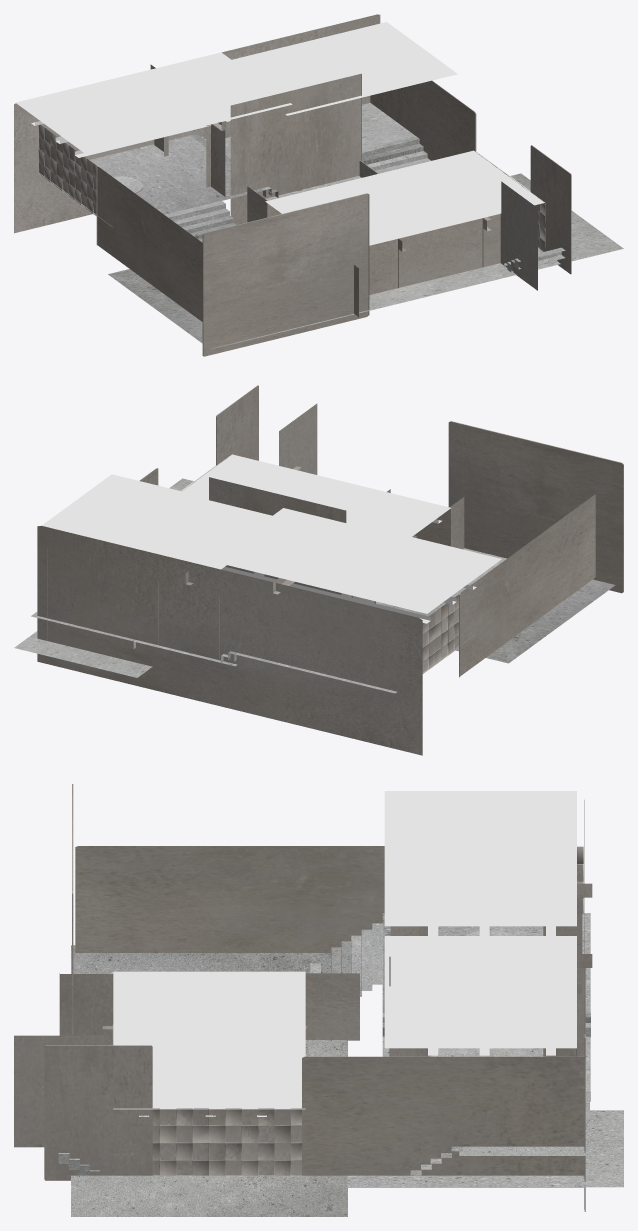
The model's file is etage_test.glb.
3 renders of one model, top to bottom at view 1: azimuth 30°, elevation 25°; view 2: azimuth 150°, elevation 25°; view 3: azimuth 270°, elevation 25°, orthographic. The views are drawn at different scales.
Visible parts, largest first — view 1: murs, plafonds.009, sols; view 2: murs, plafonds.009, sols, plafonds.587; view 3: murs, plafonds.009, sols, plafonds.587.
Boxes of the visible parts, left/top/right/bottom form: murs: left=14, top=14, right=571, bottom=356; plafonds.009: left=16, top=22, right=544, bottom=245; sols: left=38, top=103, right=623, bottom=349; murs: left=37, top=385, right=623, bottom=755; plafonds.009: left=41, top=454, right=501, bottom=613; sols: left=14, top=478, right=615, bottom=693; plafonds.587: left=221, top=519, right=476, bottom=623; murs: left=14, top=784, right=592, bottom=1211; plafonds.009: left=113, top=791, right=576, bottom=1109; sols: left=58, top=913, right=623, bottom=1216; plafonds.587: left=139, top=926, right=555, bottom=1116.
Bounding box in the file's own units: 49.94 × 16.47 × 46.58.
Materials: 4 (3 with a texture image).
